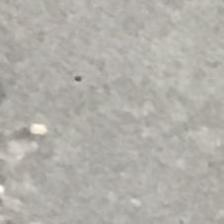Non_Crack: (8, 5, 224, 224)
